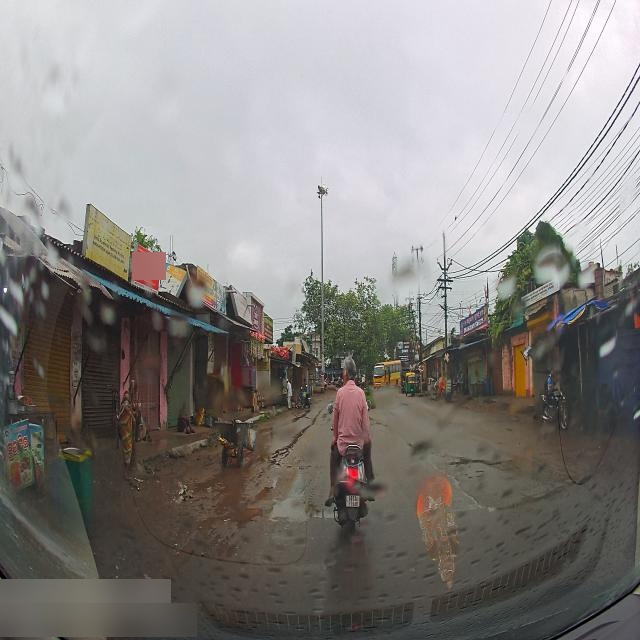pothole: (262, 494, 332, 525), (216, 493, 262, 524), (448, 452, 490, 469)
